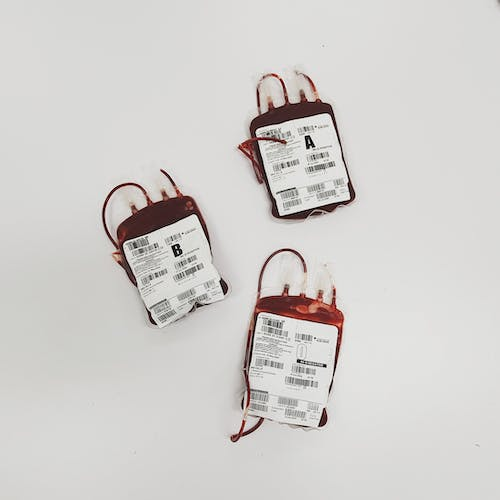blood: (229, 247, 346, 445), (99, 167, 230, 328), (237, 69, 357, 220)
